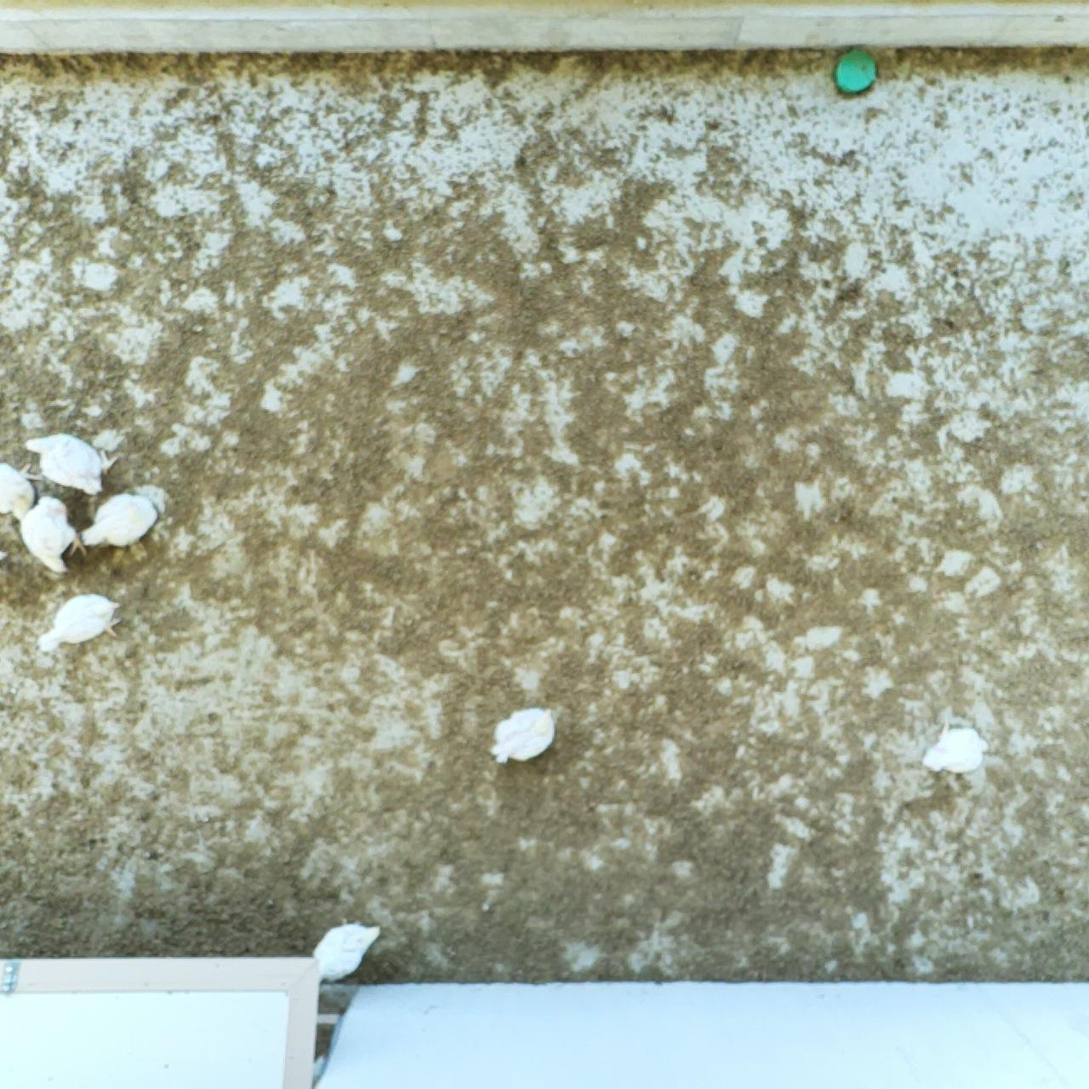chicken: (22, 428, 121, 502), (16, 493, 89, 577), (37, 590, 125, 657), (78, 491, 164, 558), (311, 914, 384, 989), (487, 703, 563, 767), (919, 718, 993, 780), (0, 458, 44, 525)
